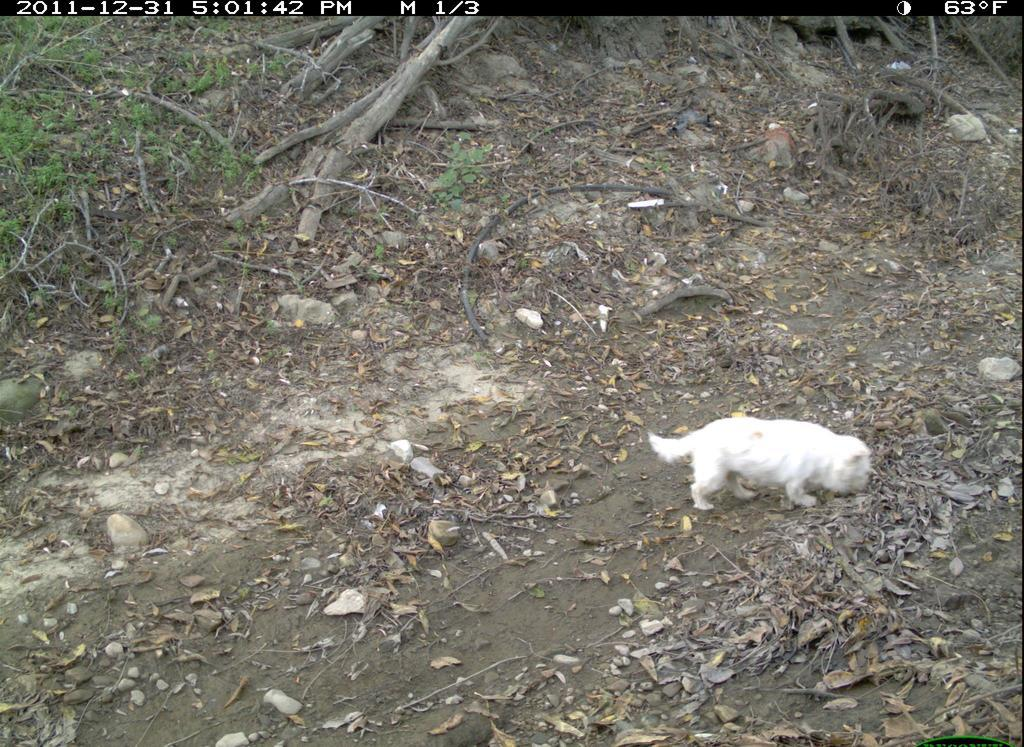dog: (646, 409, 876, 539)
